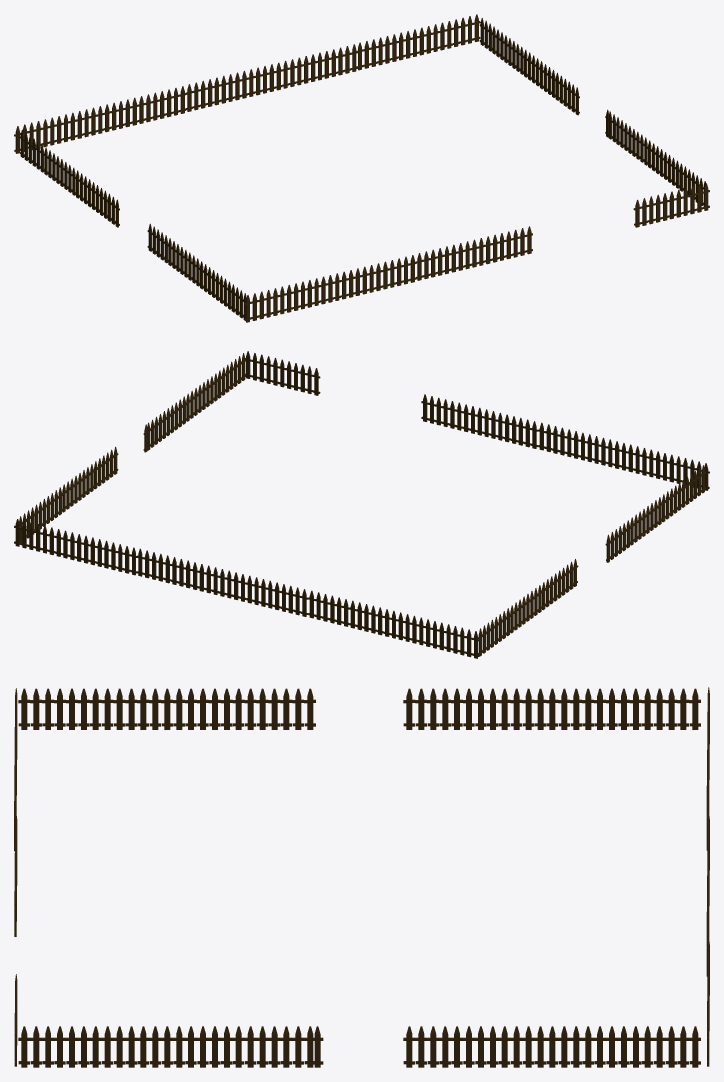
The model's file is Cage.fbx.
The picture shows the model from 3 angles, top to bottom: view 1: azimuth 30°, elevation 25°; view 2: azimuth 150°, elevation 25°; view 3: azimuth 270°, elevation 25°; orthographic projection. The views are drawn at different scales.
Visible parts, largest first — view 1: Cube.034; view 2: Cube.034; view 3: Cube.034.
Part boxes in pixels (x1,y1,x2,y2): Cube.034: [14, 14, 709, 322]; Cube.034: [14, 351, 709, 658]; Cube.034: [14, 687, 709, 1067].
Size of the model in its own units: 2527 by 145 by 2174.
